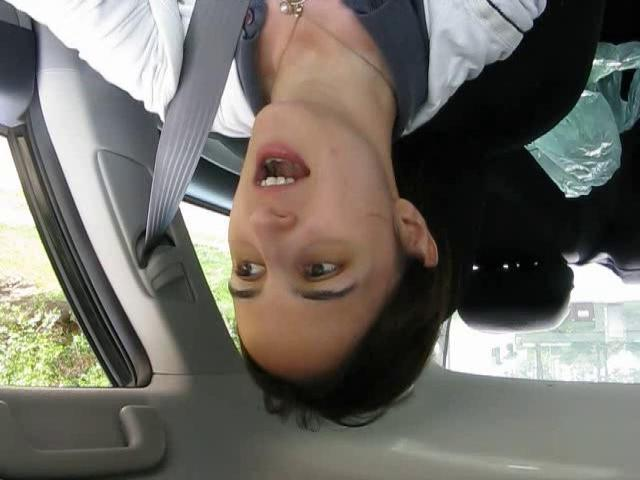eye_open: (294, 253, 349, 286), (231, 256, 266, 285)
face: (221, 96, 375, 323)
mouth_open: (247, 141, 316, 199)
